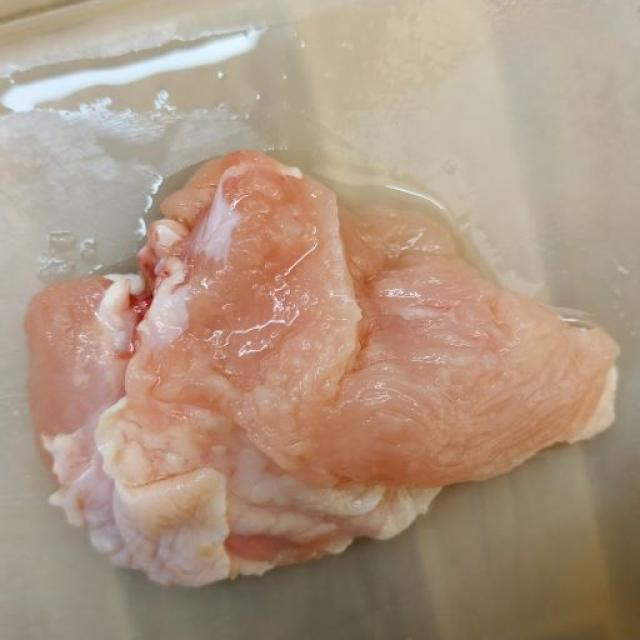chicken: (23, 147, 620, 588)
